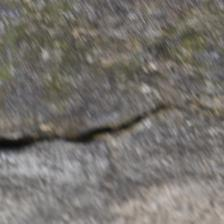Crack: (2, 49, 190, 110)
